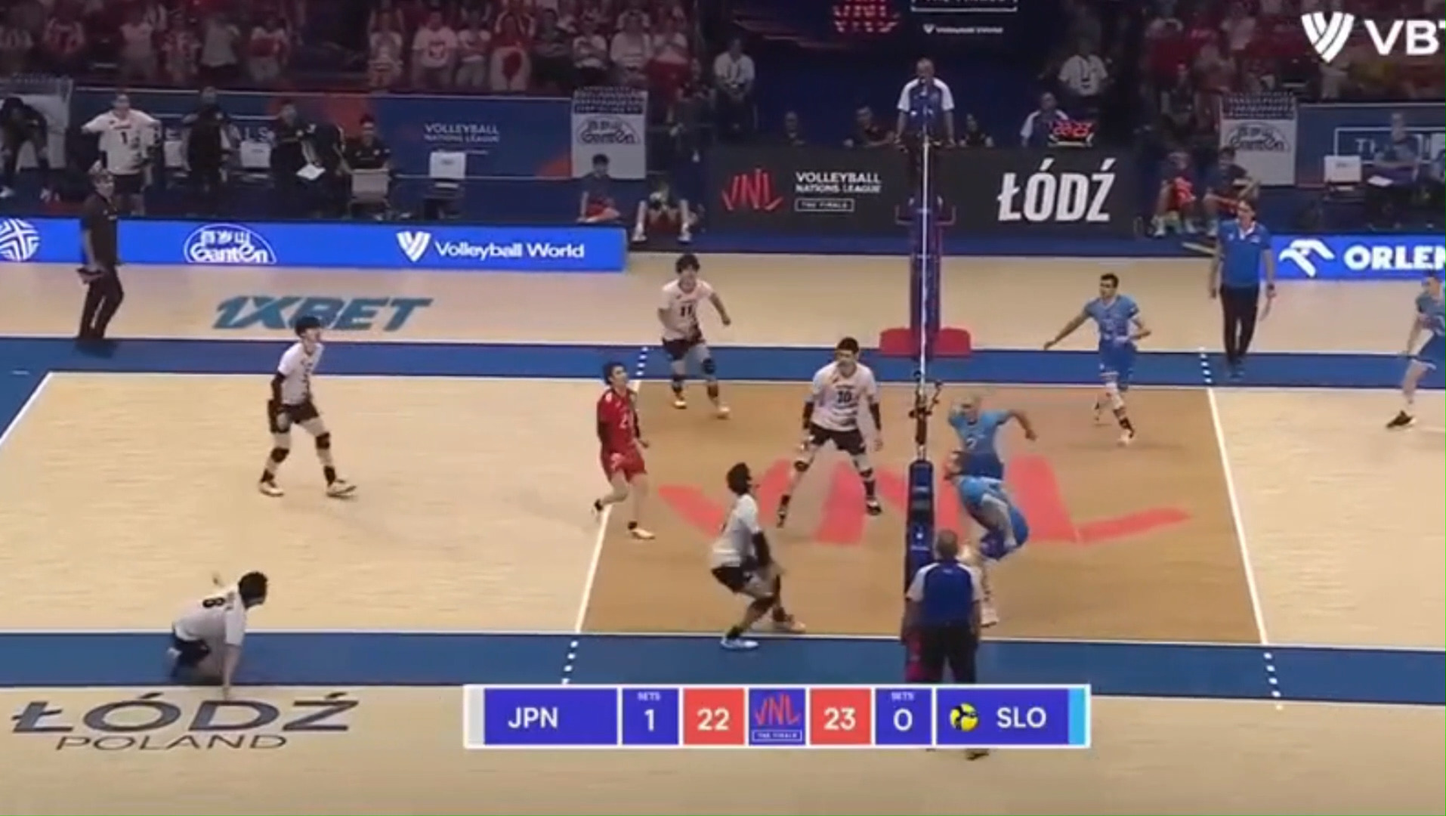player: (1044, 273, 1151, 444), (944, 451, 1029, 626), (1386, 275, 1445, 428), (948, 394, 1035, 479)
player 1: (777, 338, 882, 526), (709, 462, 802, 649), (258, 315, 354, 496), (168, 570, 268, 697), (657, 253, 731, 417), (592, 363, 654, 539)
referee: (901, 530, 982, 683), (1210, 194, 1275, 378), (896, 58, 955, 231), (77, 167, 124, 342)
